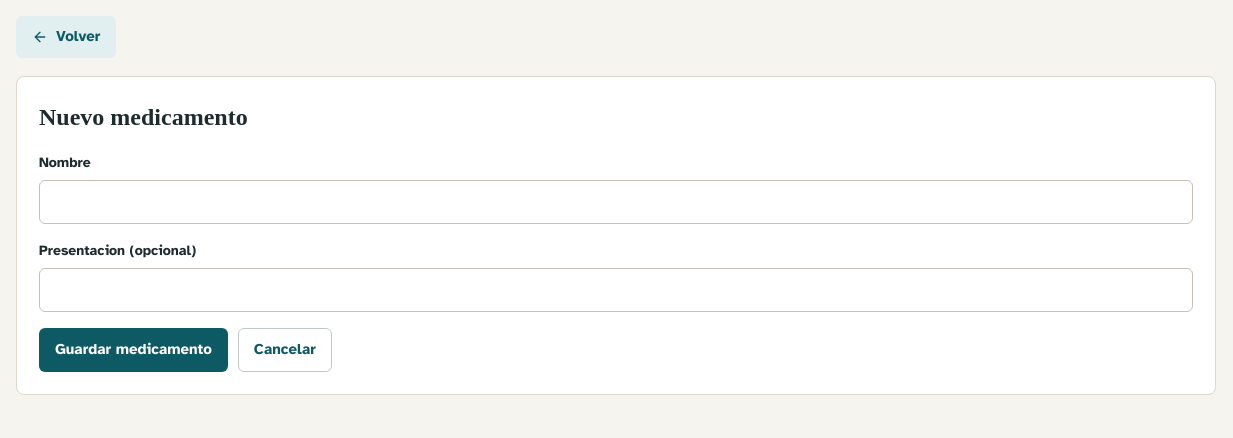
Test: FormularioMedicamento › exige el nombre antes de enviar
This screenshot has width=1233, height=438.
Click the button "Guardar medicamento". click: (133, 350)
box: x1=39 y1=328 x2=228 y2=372
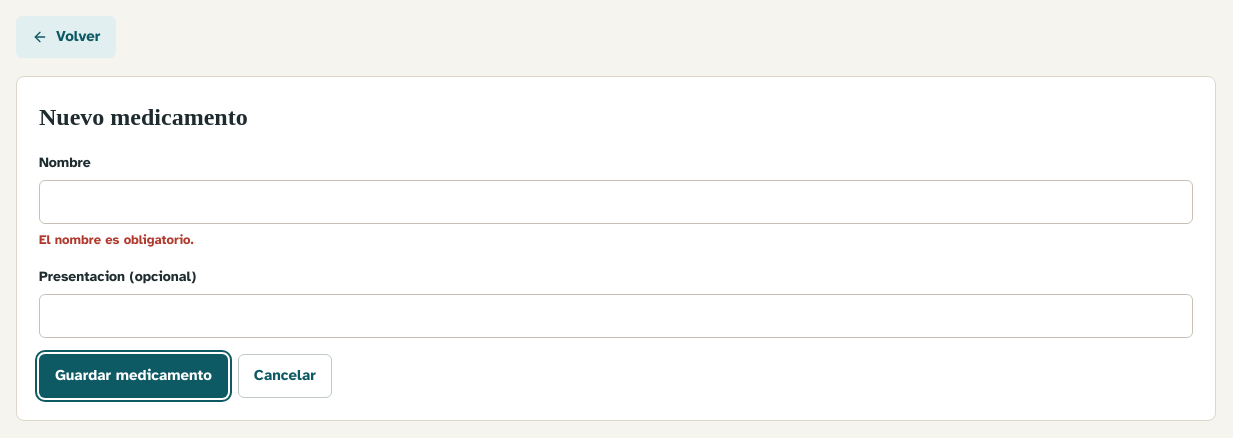
Expected: the message shows "nombre es obligatorio", x1=39 y1=232 x2=194 y2=248
